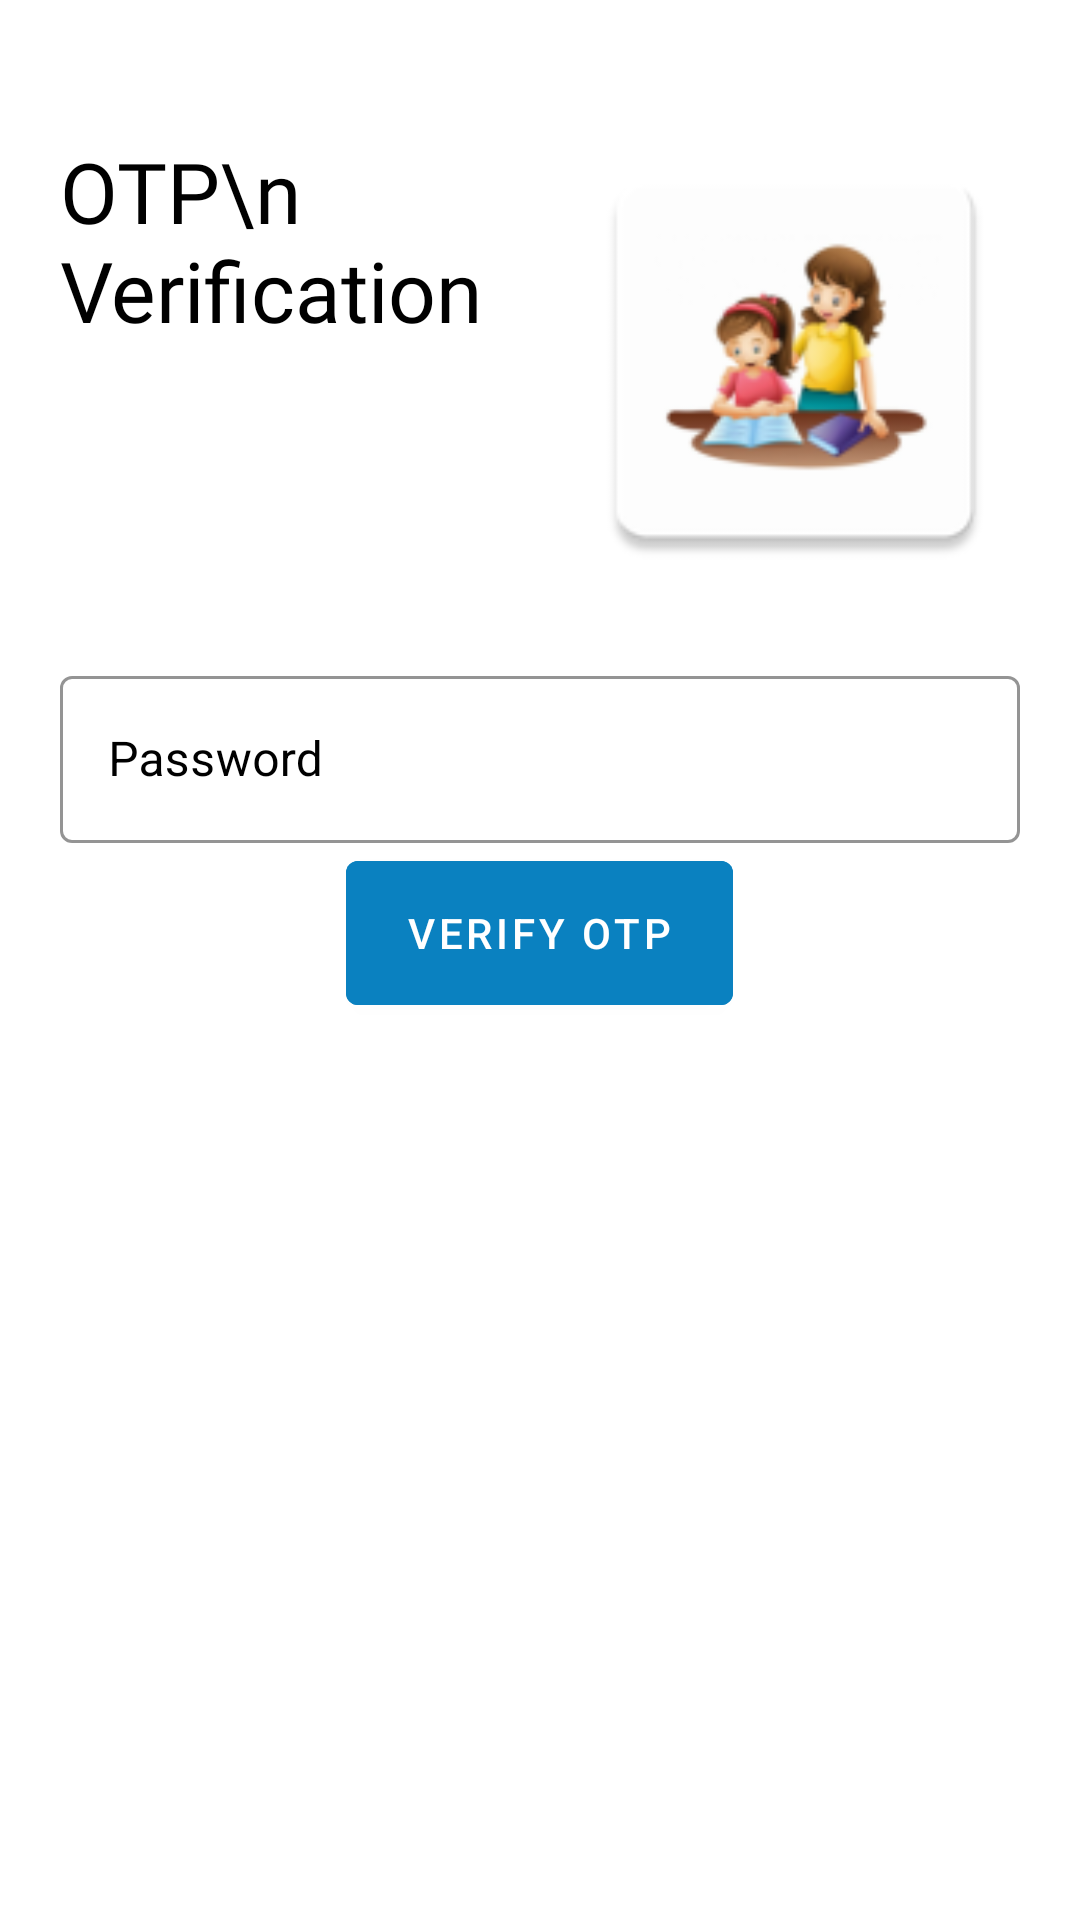

Icon click points for this 1080w x 1920h phone screenshot, format [x,y]:
parents: [796,374]
